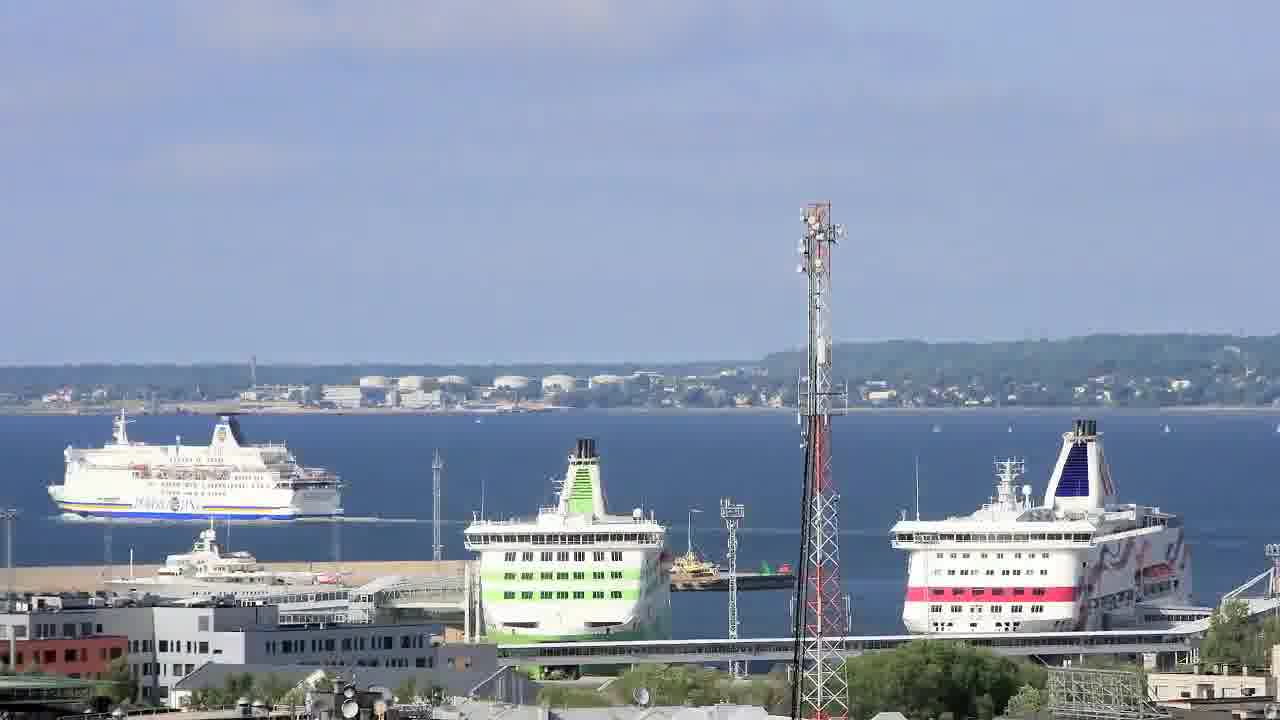type-3: (868, 415, 1225, 638), (436, 434, 694, 670), (40, 397, 352, 521), (92, 523, 358, 610)
